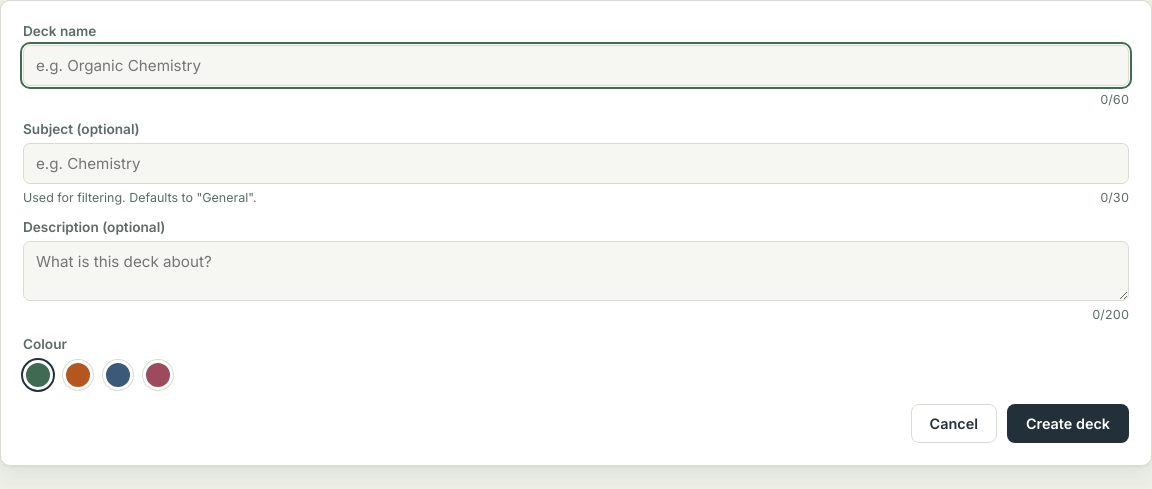
Test: <DeckForm /> › shows a live character counter
The width and height of the screenshot is (1152, 489).
Type "Maths" into the field labelled "Deck name" at [576, 66], box [23, 45, 1129, 86]
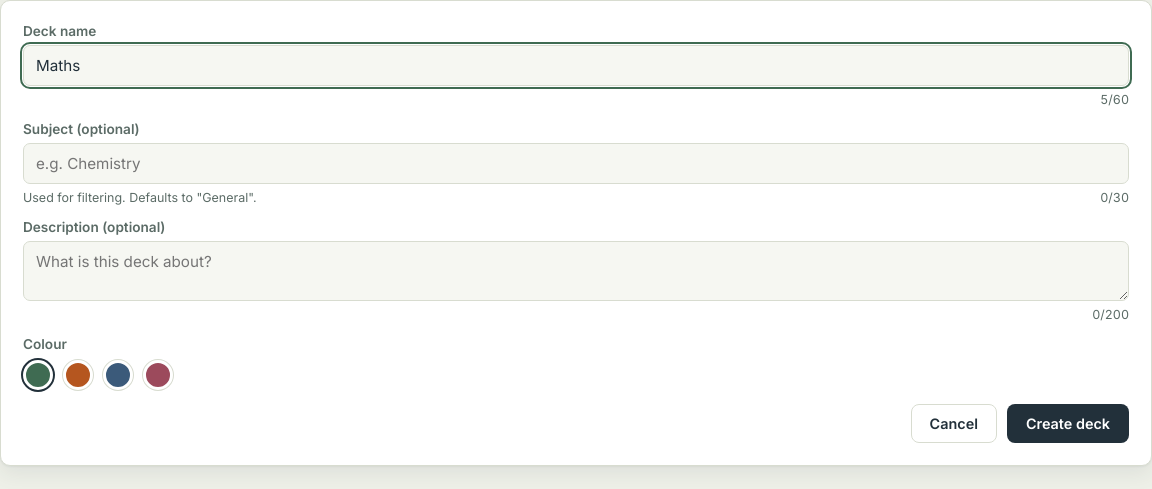
Expected: the text "5/60" is shown, [1100, 92, 1129, 107]
